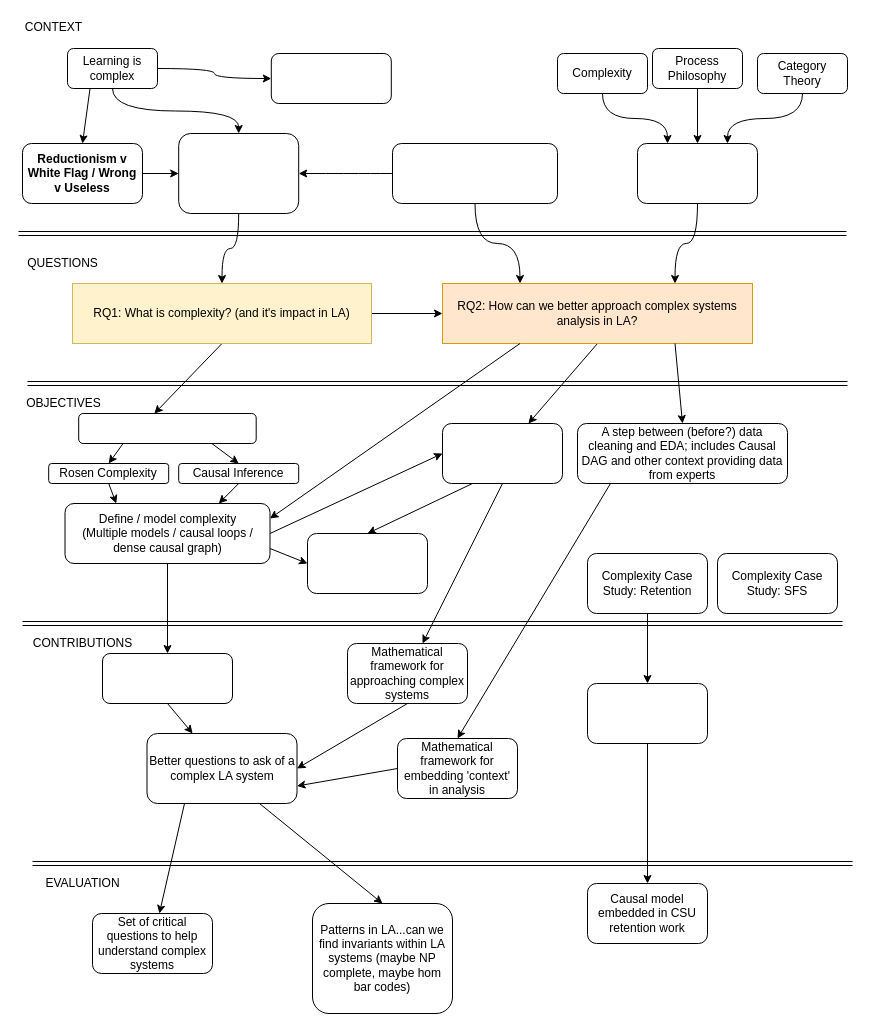
This 870x1031 diagram has some shape labels left out. Here are the shapes that lost their labels. From the top down, the box of each, then its label:
(270, 52, 391, 104): Theory - Practitioner gap
(178, 132, 299, 214): Confusion in communication and decision making around complex LA systems
(392, 142, 558, 204): What questions are being asked (currently) of LA systems?
(636, 142, 758, 204): Organisation / relationships over parts / static
(78, 412, 256, 444): Literature Review
(442, 422, 562, 484): Diagnosing a 'good' epistemic cut (between perfect and reduced causal DAG)
(306, 532, 428, 594): Visualisation tools for understanding complex systems
(102, 652, 232, 704): Framing complexity within the field of LA
(586, 682, 708, 744): Publication journal / conference articles
